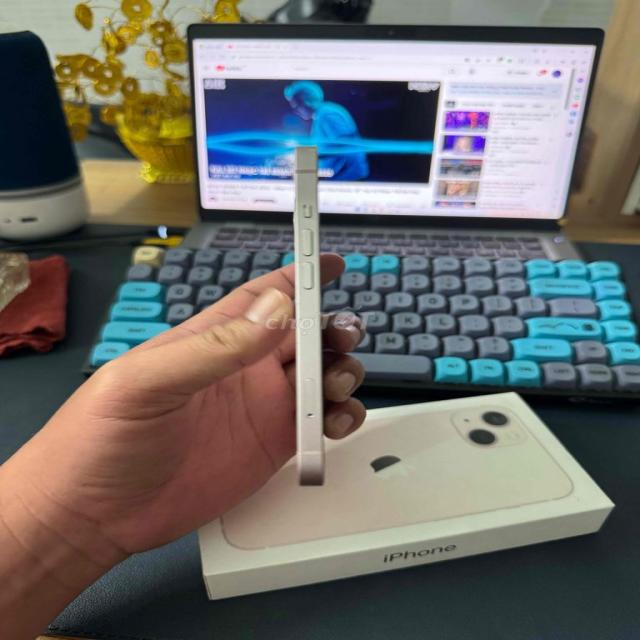gen_12_13: (275, 139, 369, 500)
